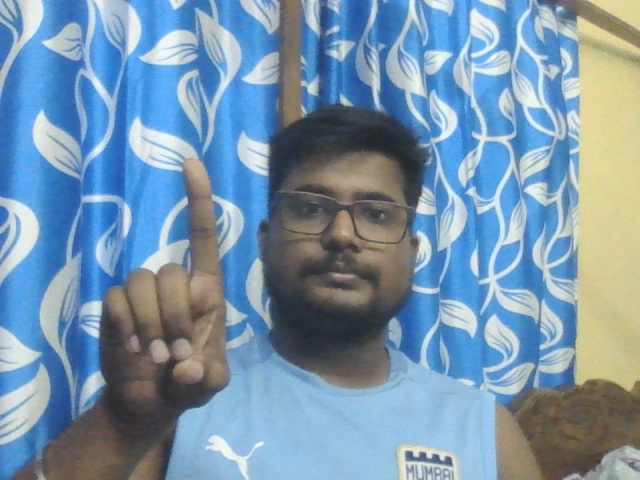D: (100, 155, 233, 417)
